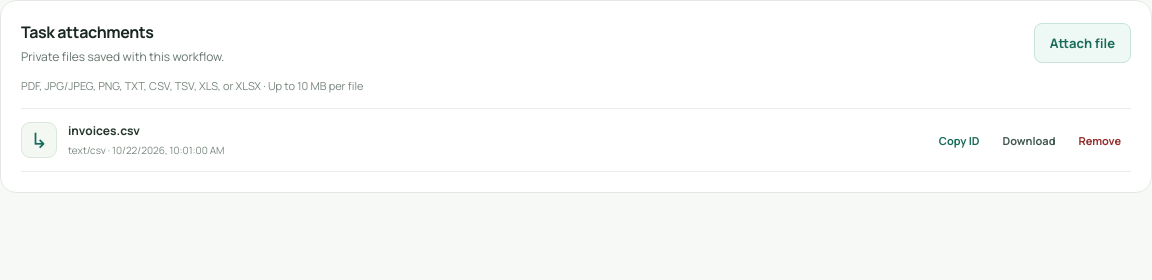
Test: TaskAttachmentsPanel › copies the registered file ID for the manual review tool
Click the button with aria-label "Copy ID for invoices.csv".
click(959, 140)  # box [929, 123, 989, 157]
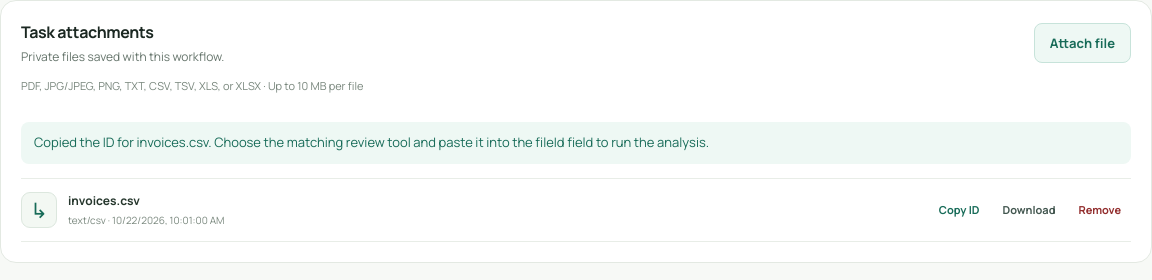
Result: the message shows "Copied the ID" at [34, 133, 709, 151]
